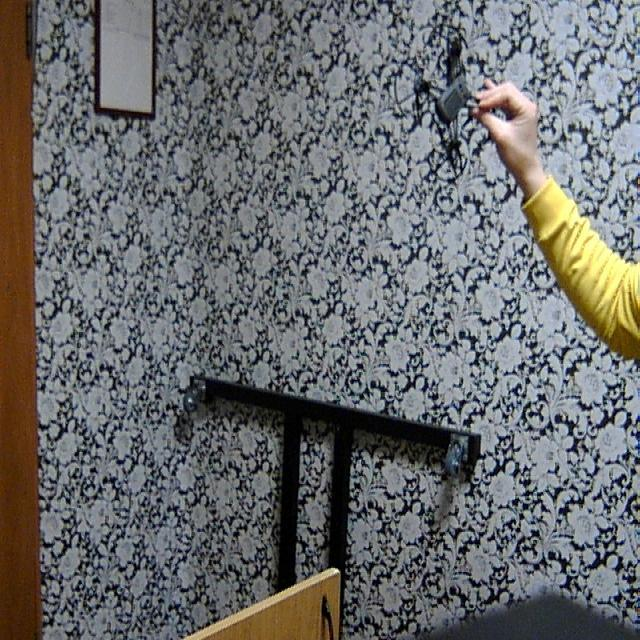drone: (377, 18, 526, 189)
